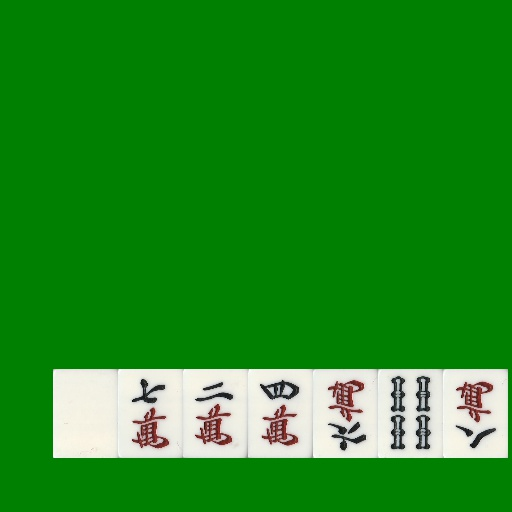2m: (183, 369, 248, 458)
4m: (248, 369, 313, 458)
4s: (378, 369, 443, 458)
6m: (313, 369, 378, 458)
7m: (118, 369, 183, 458)
8m: (443, 369, 508, 458)
white: (53, 369, 118, 458)
